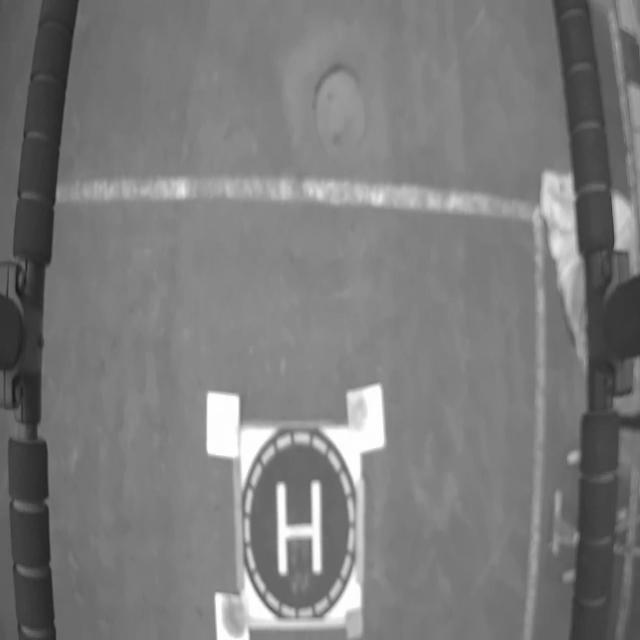Helipad: (276, 479, 323, 577)
